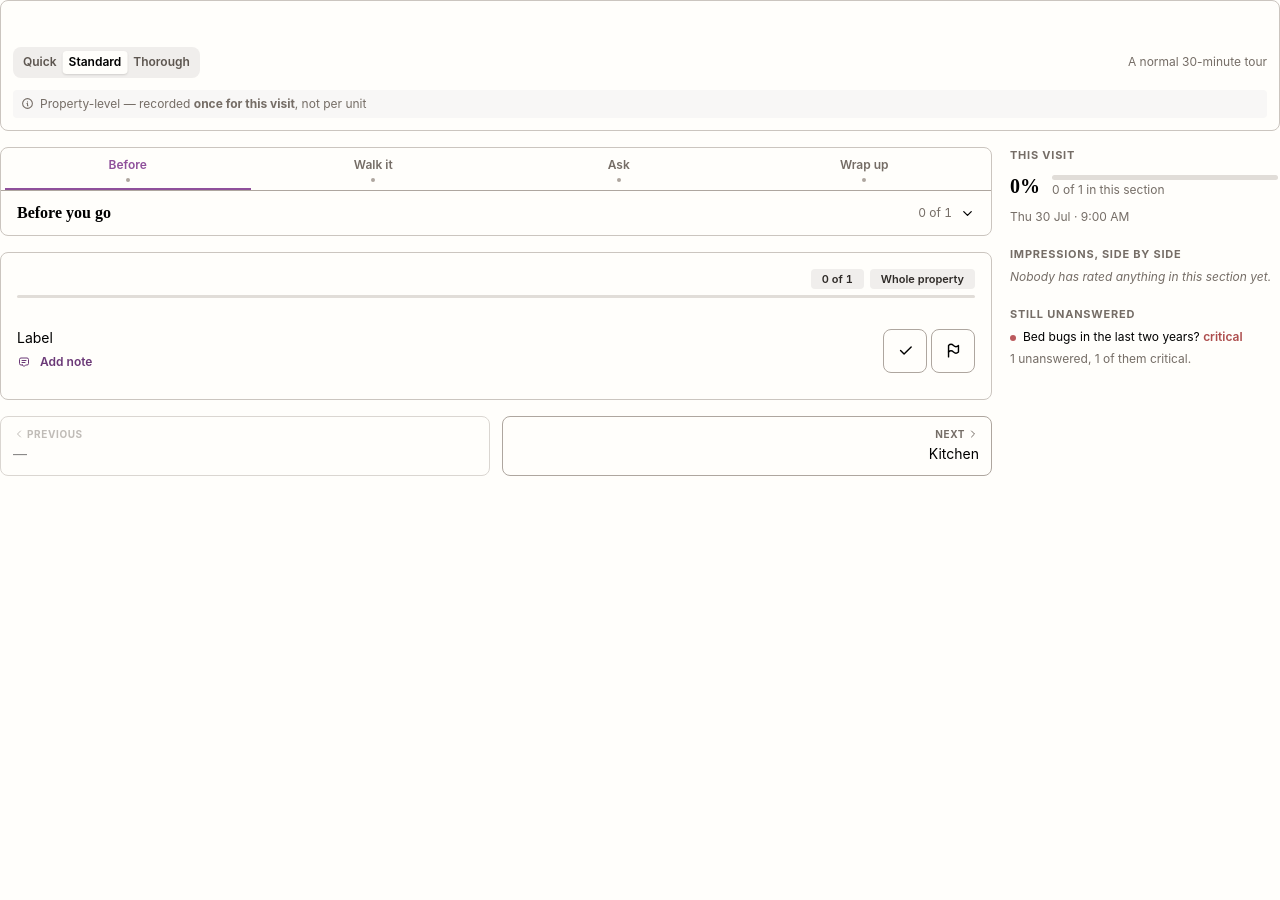
Test: the question gate › marks a critical question as such
Click the button "Before you go 0 of 1" at {"x": 64, "y": 212}, box [13,191,979,235]
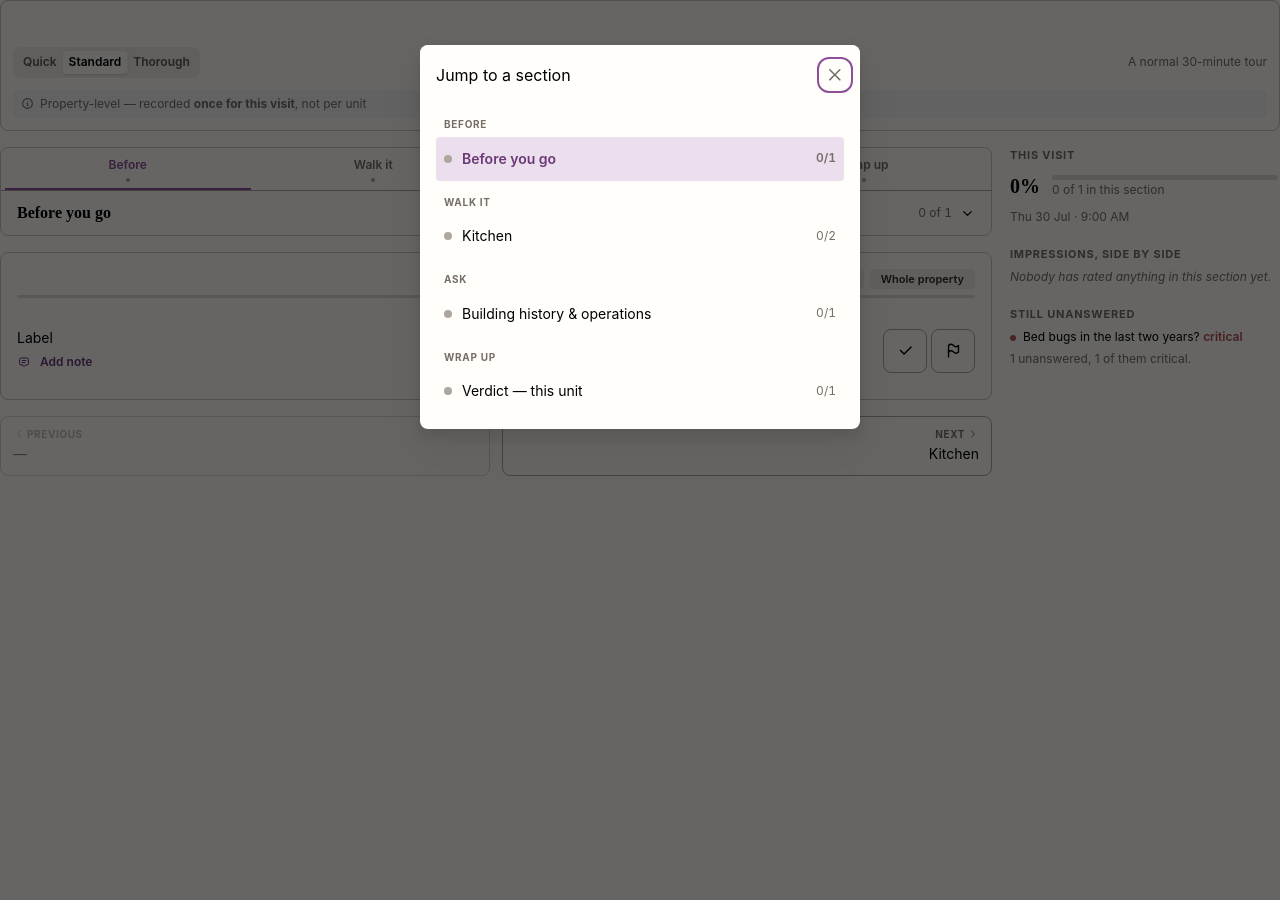
Click the button "Building history & operations 0/1" at {"x": 640, "y": 314}, box [436,292,844,336]
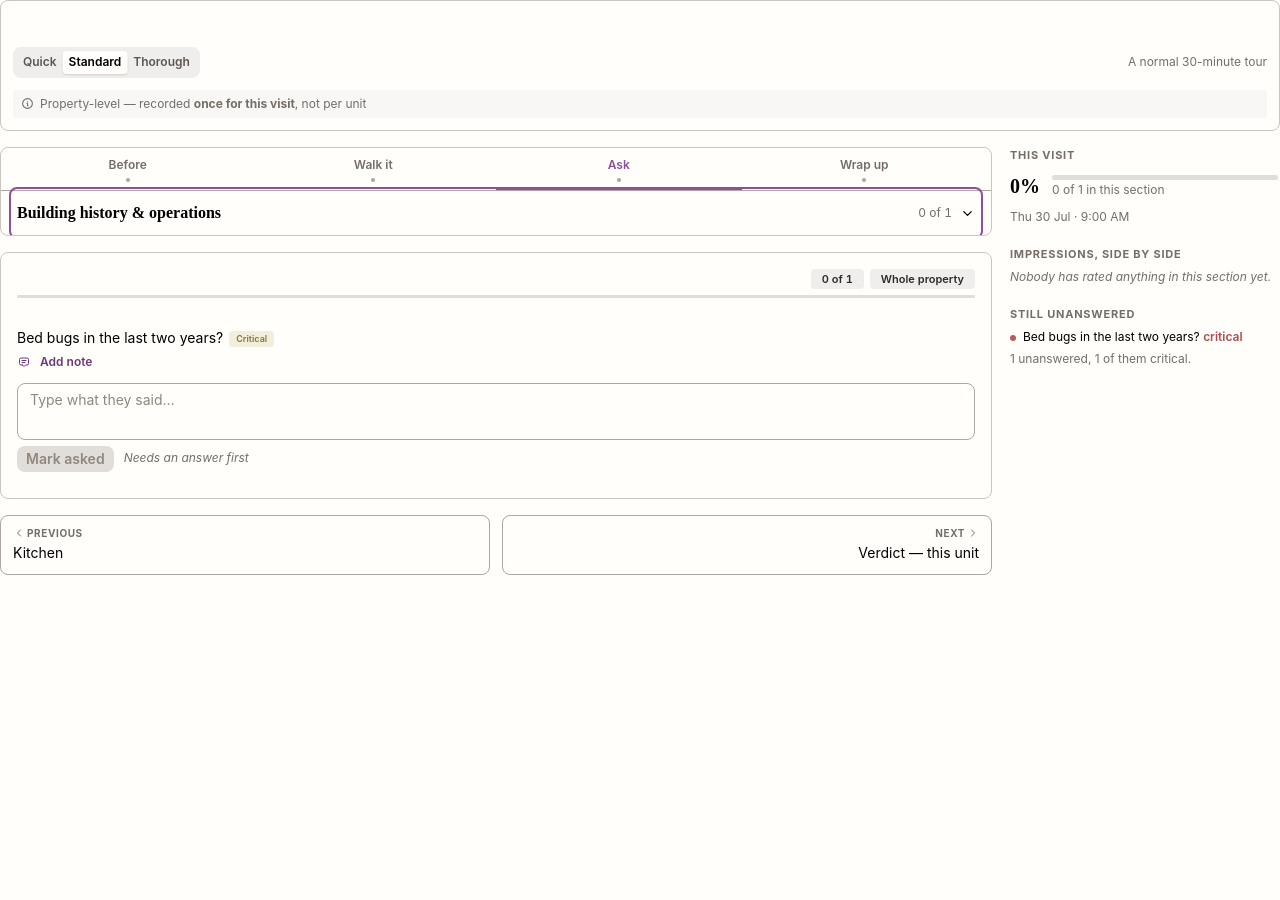
Now the text "Critical" is shown, box [236,332,267,346]
